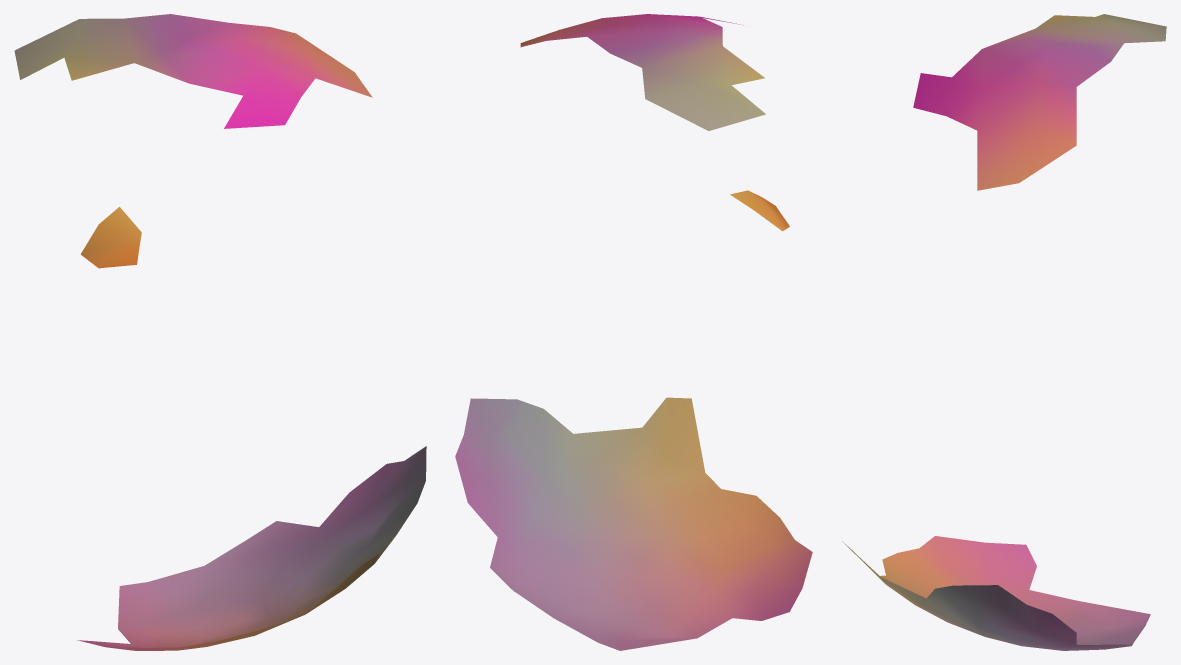
File: space-nebulae-nebula_v40.glb
3 renders of one model, left to right at view 1: azimuth 30°, elevation 25°; view 2: azimuth 150°, elevation 25°; view 3: azimuth 270°, elevation 25°, orthographic. The views are drawn at different scales.
Visible parts, largest first — view 1: Nebula_v40; view 2: Nebula_v40; view 3: Nebula_v40.
Boxes of the visible parts, left/top/right/bottom form: Nebula_v40: left=14, top=14, right=426, bottom=650; Nebula_v40: left=455, top=14, right=812, bottom=650; Nebula_v40: left=842, top=14, right=1166, bottom=650.
Bounding box in the file's own units: 0.3119 × 0.5 × 0.2551.
